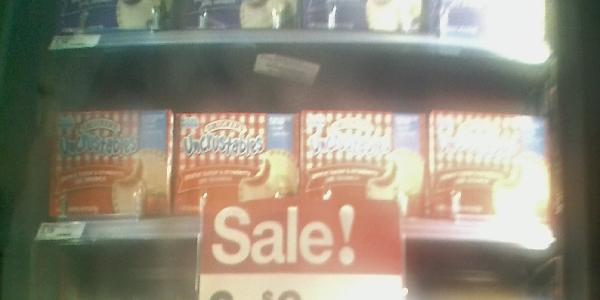icecream: (173, 101, 311, 230), (428, 97, 558, 227), (306, 106, 430, 234), (47, 96, 175, 219)
